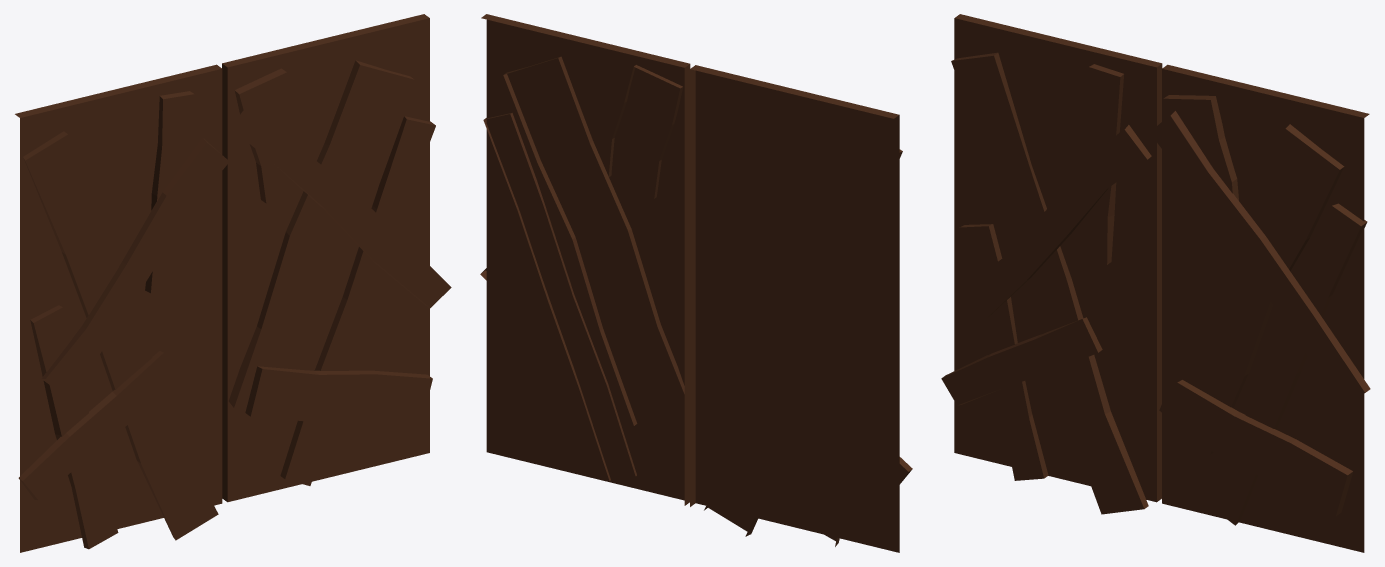
Rendered from door.fbx.
The picture shows the model from 3 angles, left to right: view 1: azimuth 30°, elevation 25°; view 2: azimuth 150°, elevation 25°; view 3: azimuth 330°, elevation 25°; orthographic projection.
Parts seen in each view (by area): view 1: mine_door; view 2: mine_door; view 3: mine_door.
Boxes of the visible parts, box(x1,y1,x2,y2) form: mine_door: box(15, 14, 451, 552); mine_door: box(480, 14, 912, 552); mine_door: box(941, 14, 1370, 552).
Bounding box in the file's own units: 415 × 425 × 26.97.
